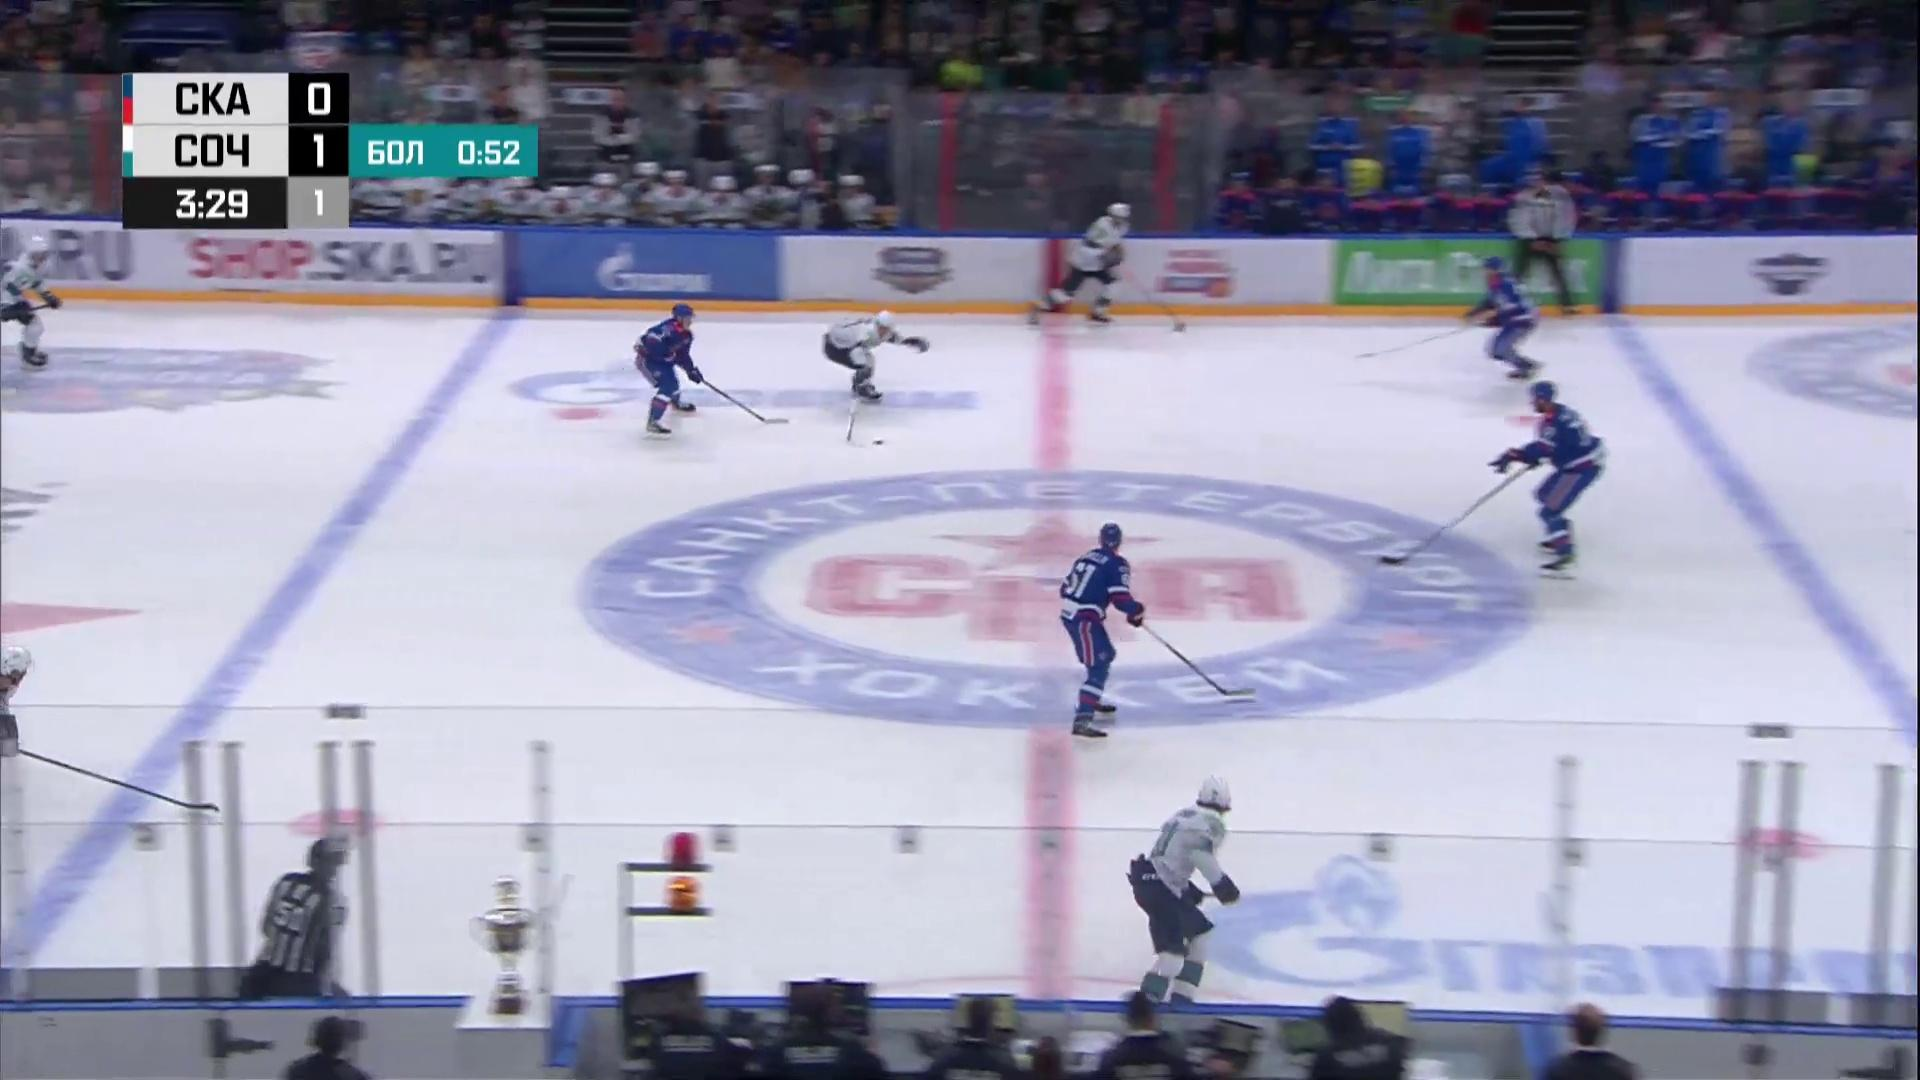ball: (872, 439, 885, 446)
